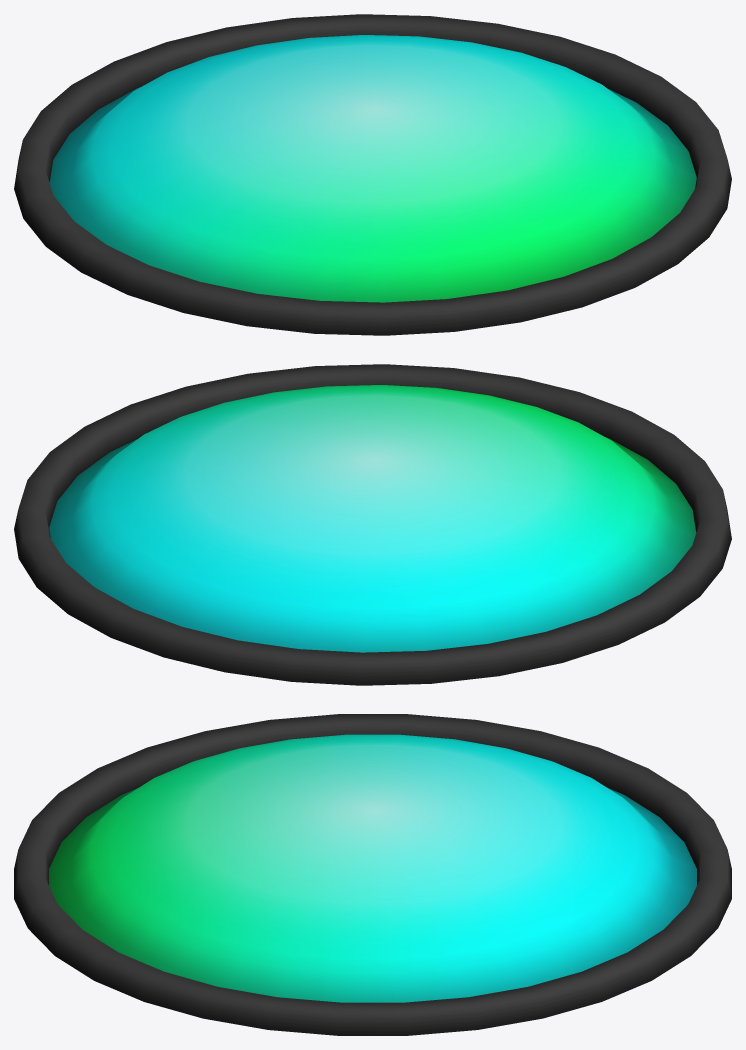
Rendered from Jump_pad.fbx.
3 views of the same model, one above another, from view 1: azimuth 30°, elevation 25°; view 2: azimuth 150°, elevation 25°; view 3: azimuth 270°, elevation 25° (orthographic).
Visible parts, largest first — view 1: Jumping_pad; view 2: Jumping_pad; view 3: Jumping_pad.
Boxes of the visible parts, <box> form: Jumping_pad: <box>14,14,731,335</box>; Jumping_pad: <box>14,364,731,685</box>; Jumping_pad: <box>14,714,731,1035</box>.
Bounding box in the file's own units: 4.25 × 0.488 × 4.25.
